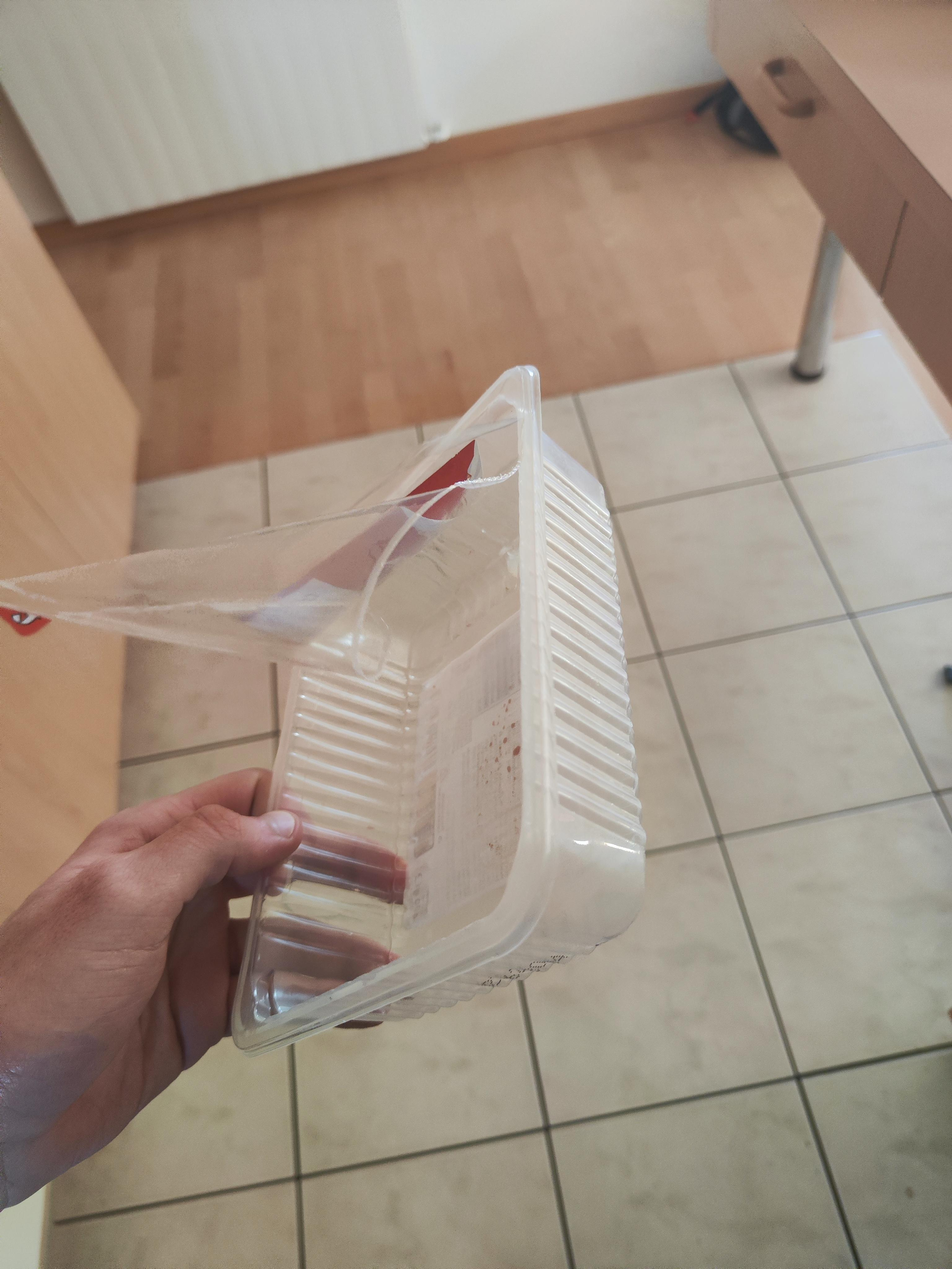Plastic: (0, 358, 695, 1061)
